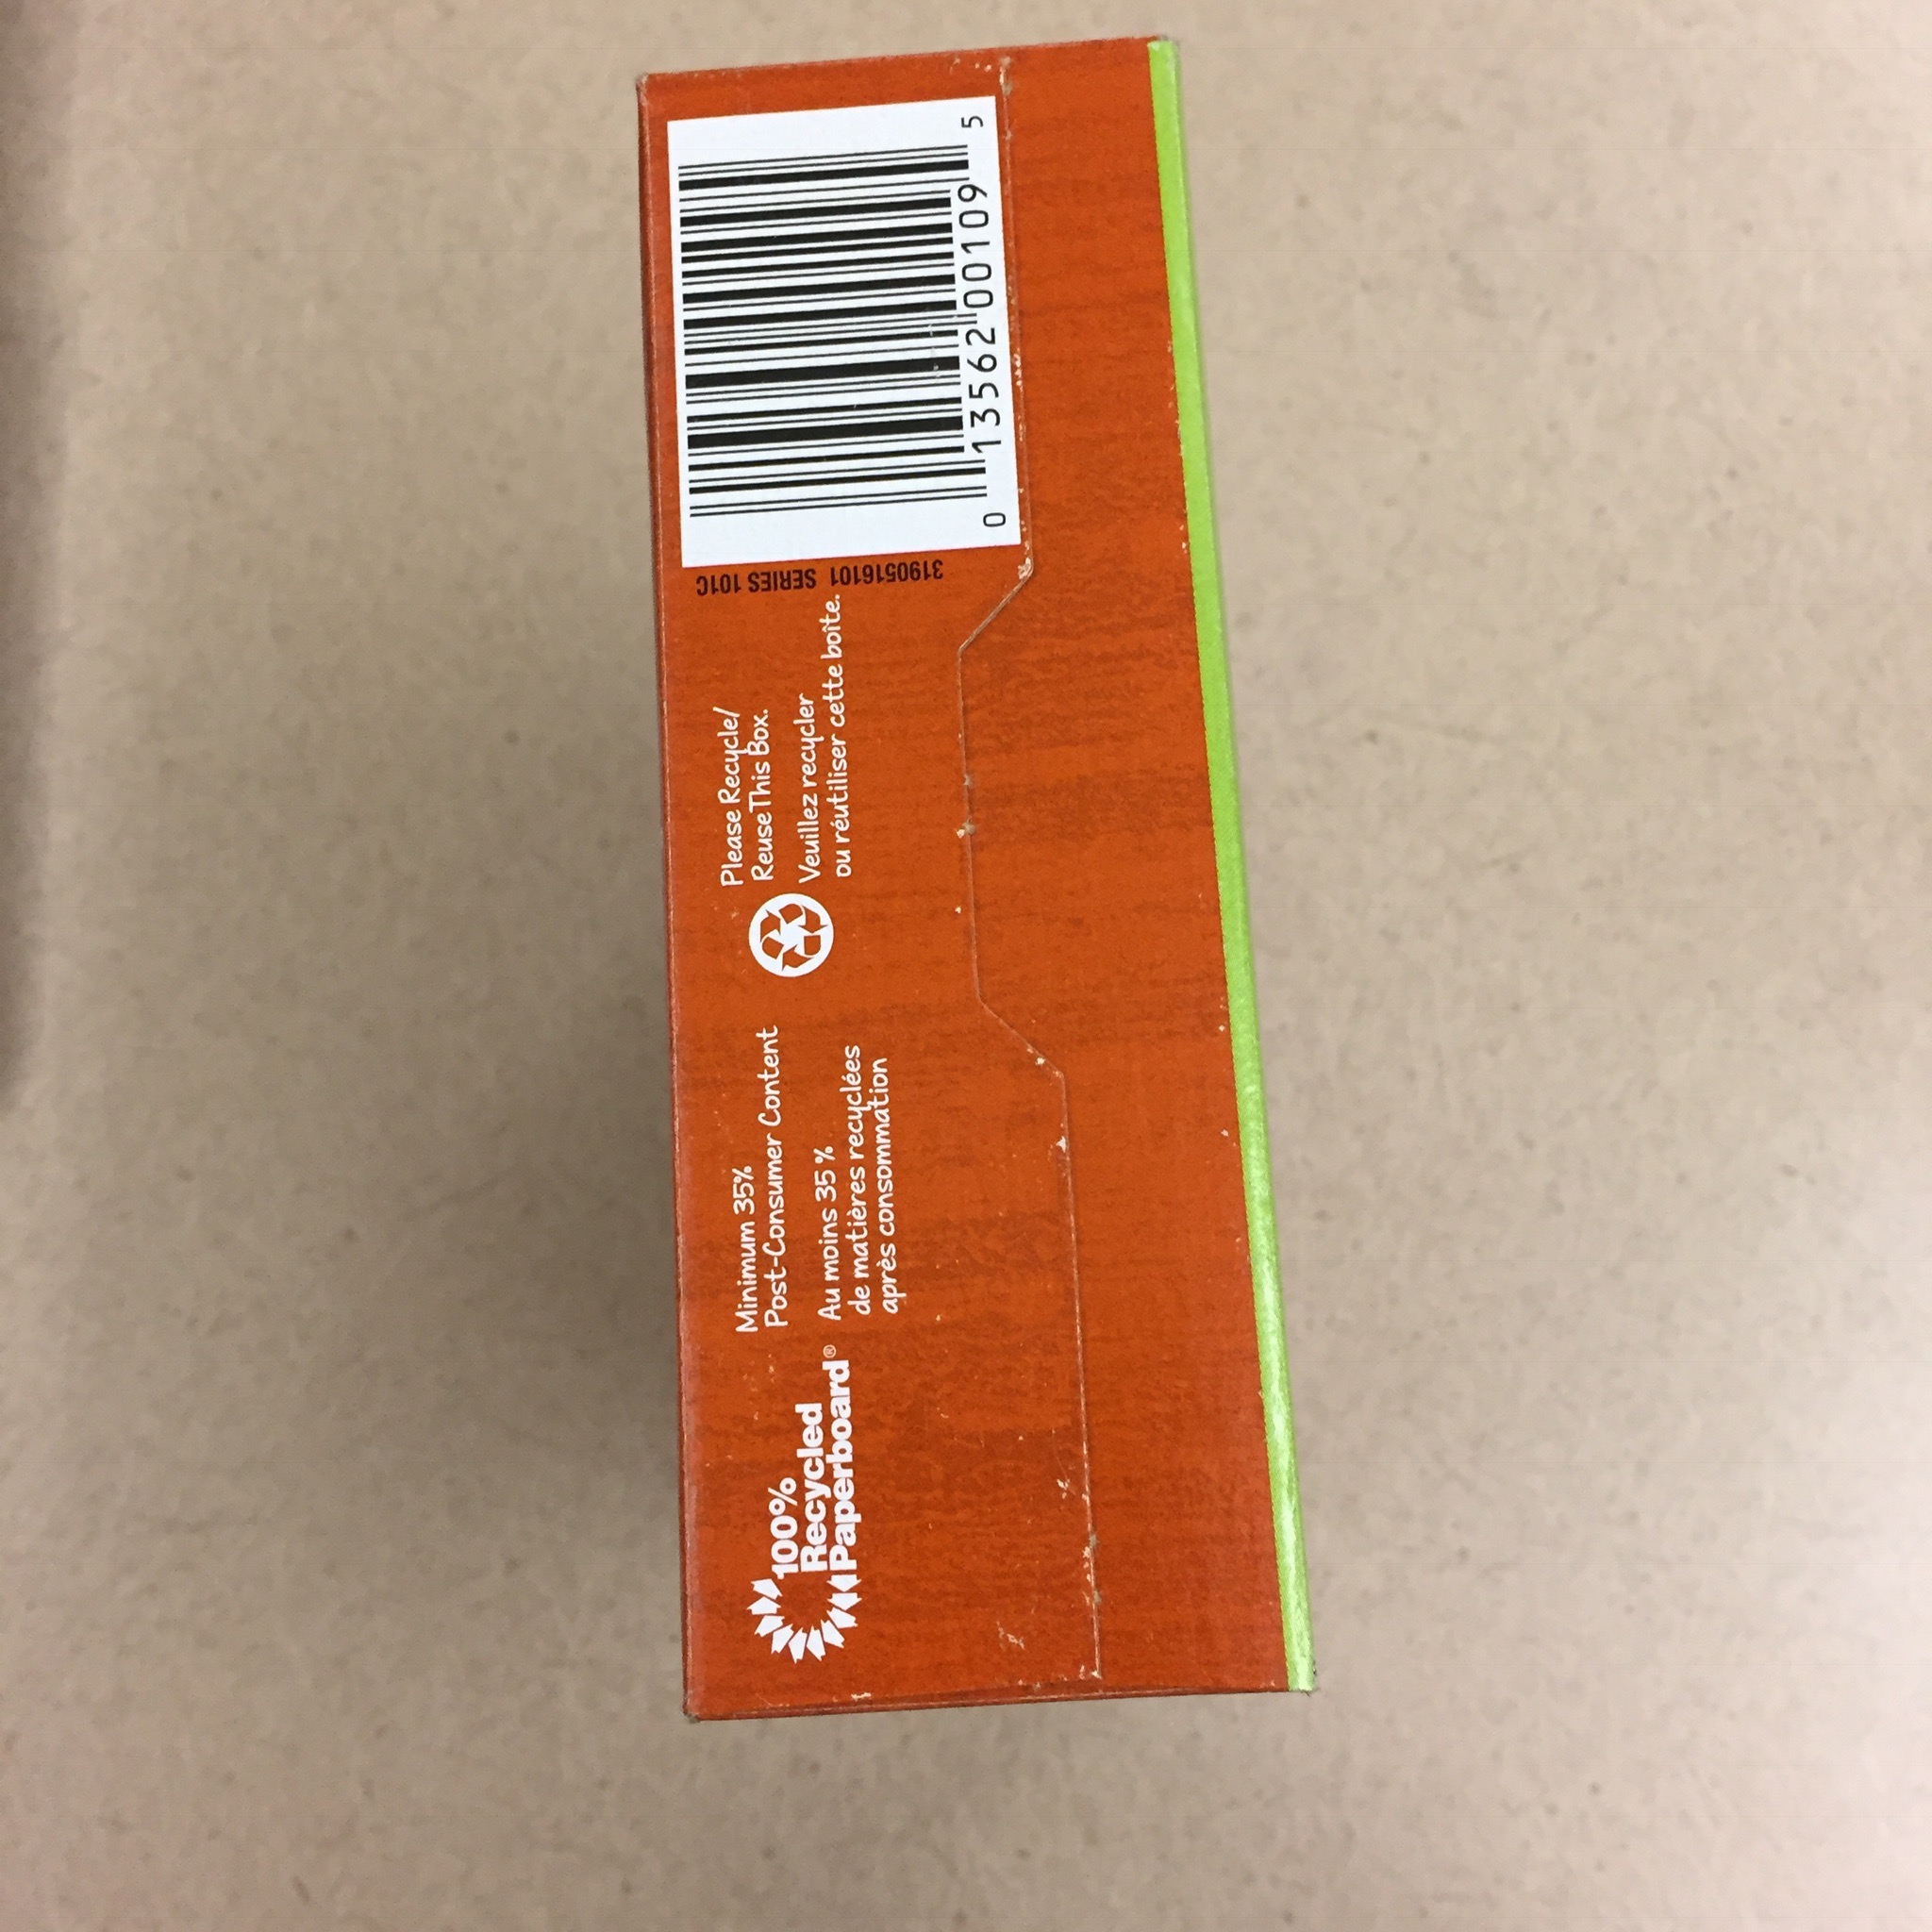annies_snickerdoodle_cinnamon_sugar: (630, 25, 1323, 1730)
